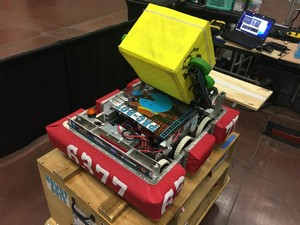cube: (115, 1, 217, 100)
